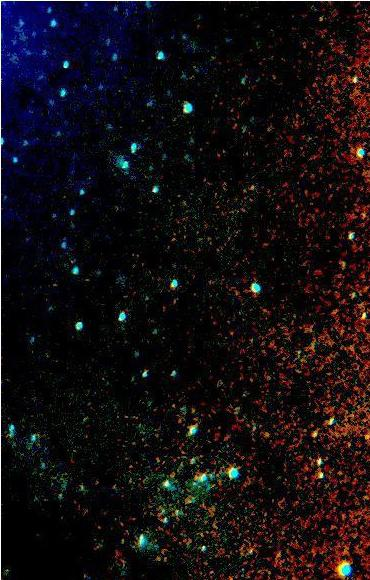star: (351, 421, 370, 451)
